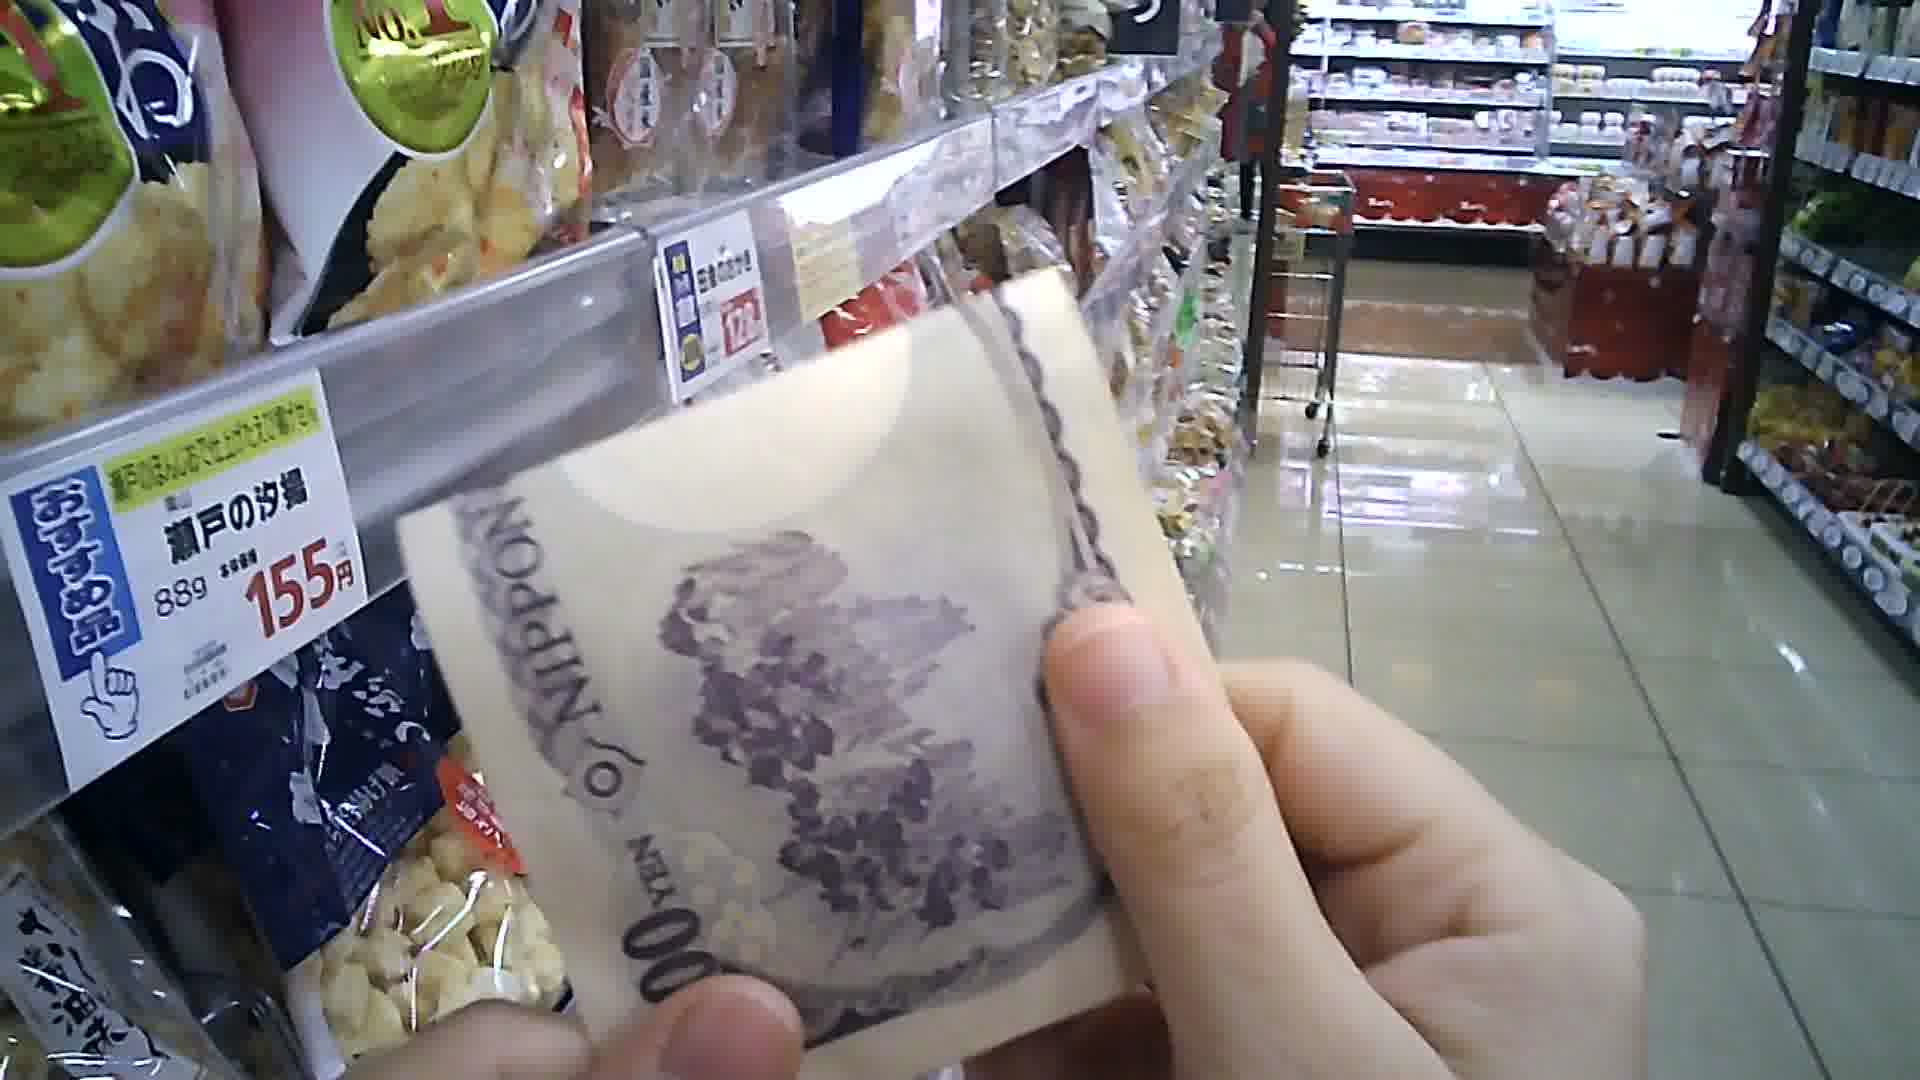5,000 Yen: (388, 268, 1353, 1079)
